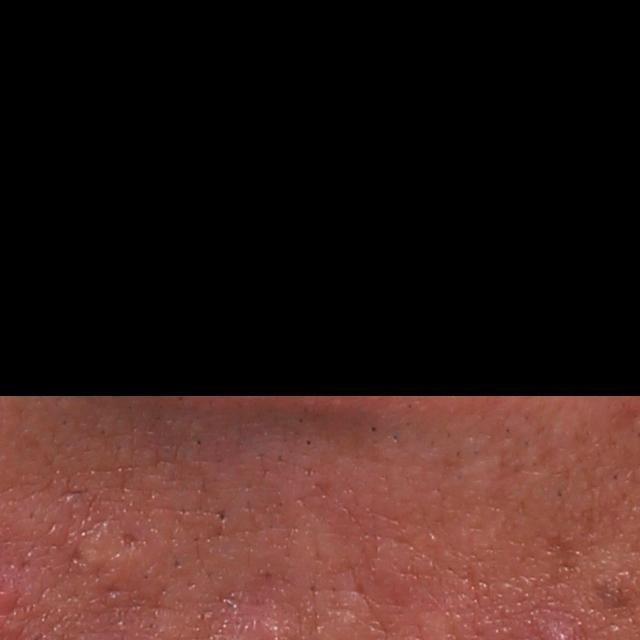hypertrophic_scar: (75, 529, 168, 592)
